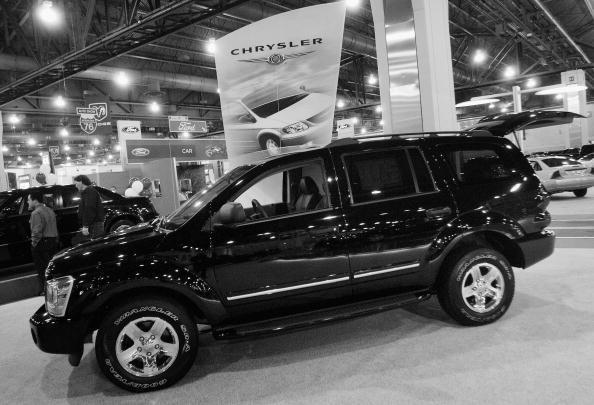car: (33, 132, 556, 395)
